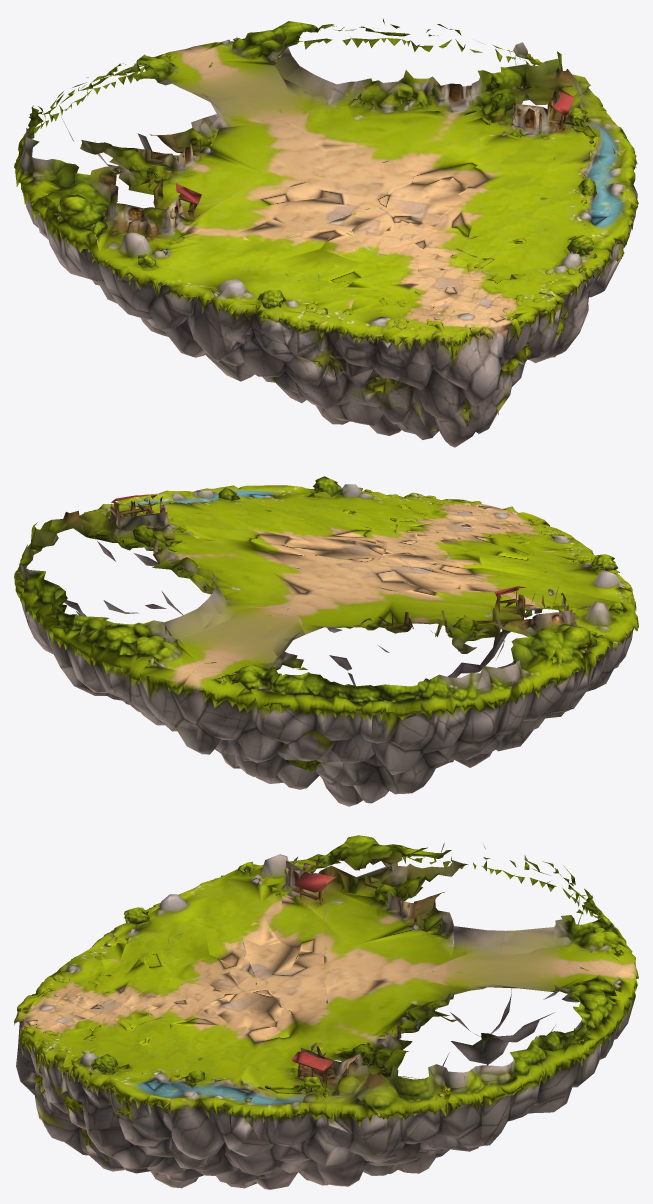
File: island-distant.glb
3 renders of one model, top to bottom at view 1: azimuth 30°, elevation 25°; view 2: azimuth 150°, elevation 25°; view 3: azimuth 270°, elevation 25°, orthographic.
Visible parts, largest first — view 1: Hi3D_DistantRockIsland; view 2: Hi3D_DistantRockIsland; view 3: Hi3D_DistantRockIsland.
Part boxes in pixels (x1,y1,x2,y2): Hi3D_DistantRockIsland: [14, 18, 638, 447]; Hi3D_DistantRockIsland: [14, 476, 638, 806]; Hi3D_DistantRockIsland: [14, 835, 638, 1189].
Bounding box in the file's own units: 0.9899 × 0.4094 × 0.9993.
1 material, 1 textured.
